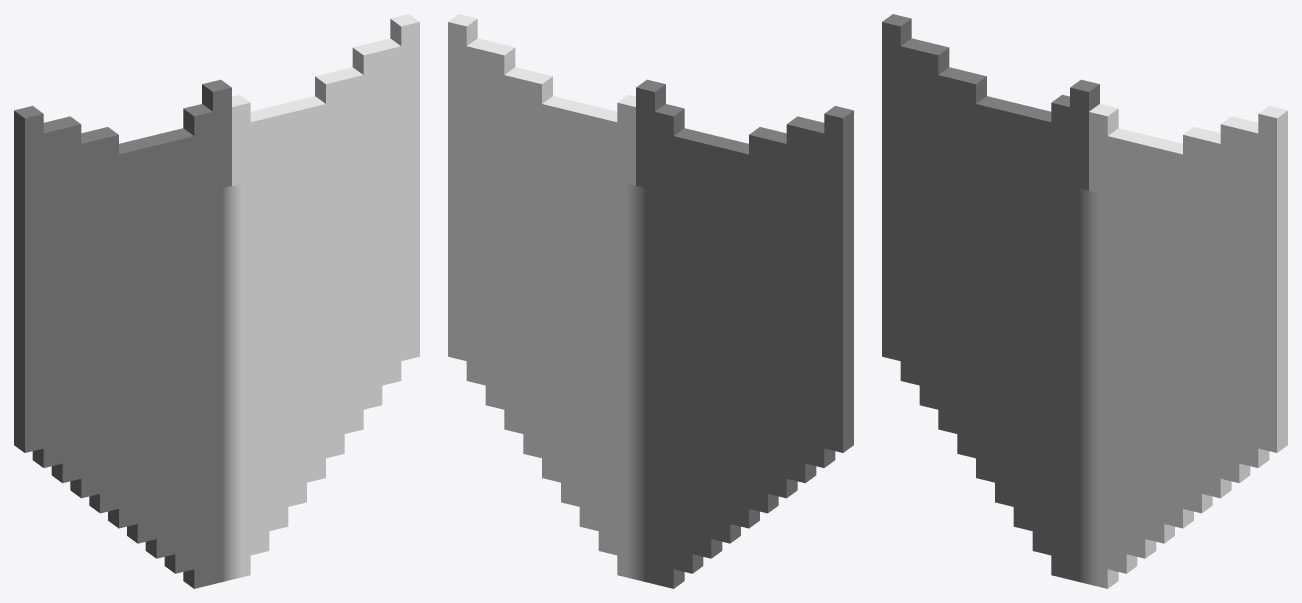
The model's file is Shield.dae.
3 views of the same model, side by side, from view 1: azimuth 30°, elevation 25°; view 2: azimuth 150°, elevation 25°; view 3: azimuth 330°, elevation 25° (orthographic).
Visible parts, largest first — view 1: Shield; view 2: Shield; view 3: Shield.
Part boxes in pixels (x1,y1,x2,y2): Shield: [14, 14, 419, 588]; Shield: [448, 14, 853, 588]; Shield: [882, 14, 1287, 588].
Size of the model in its own units: 21 by 26 by 1.
1 material, 1 textured.
